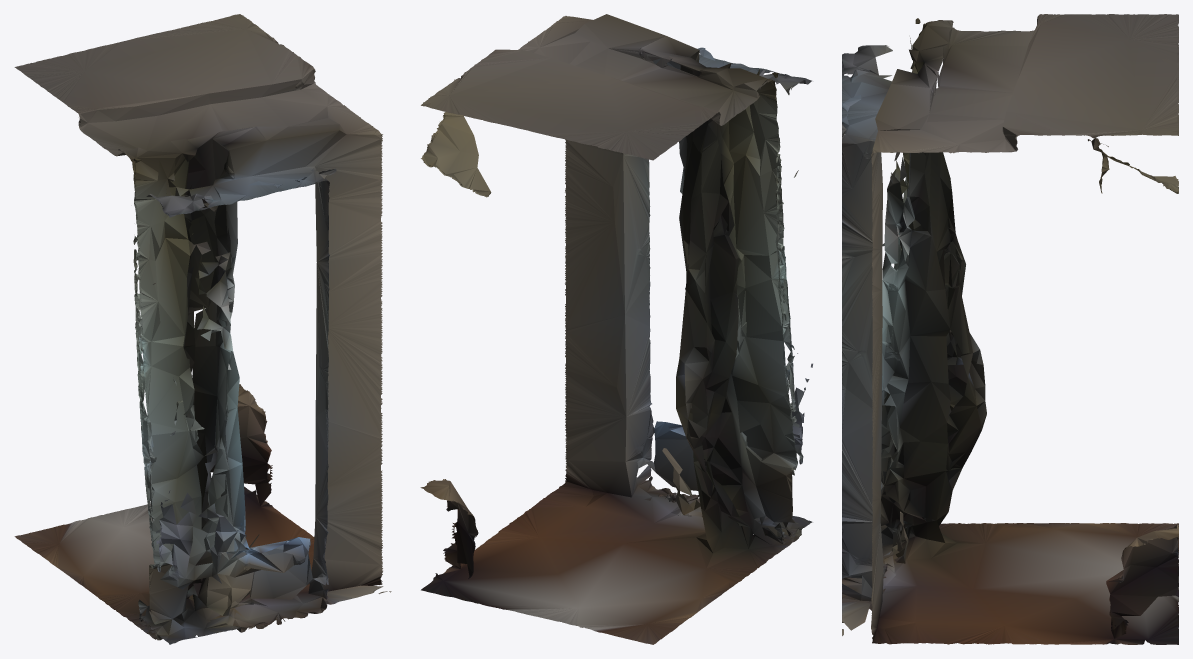
Rendered from coarse.glb.
3 renders of one model, left to right at view 1: azimuth 30°, elevation 25°; view 2: azimuth 150°, elevation 25°; view 3: azimuth 270°, elevation 25°, orthographic. The views are drawn at different scales.
Bounding box in the file's own units: 1.44 × 2.87 × 1.71.
